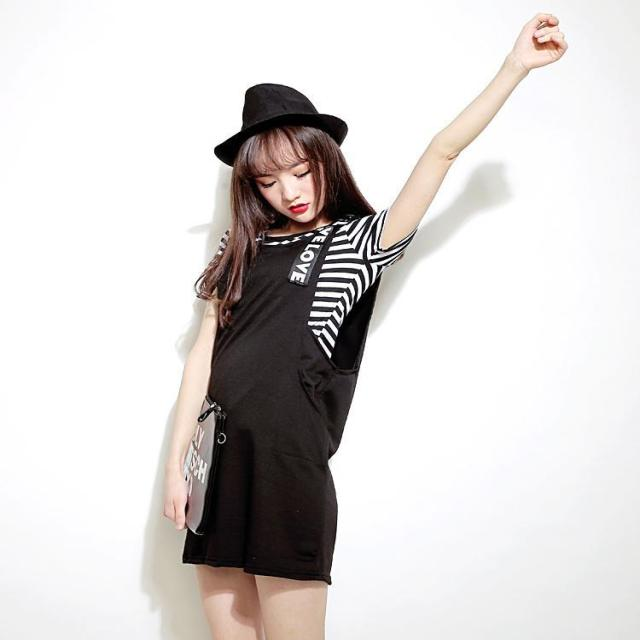short-sleeve-dress: (175, 165, 428, 583)
